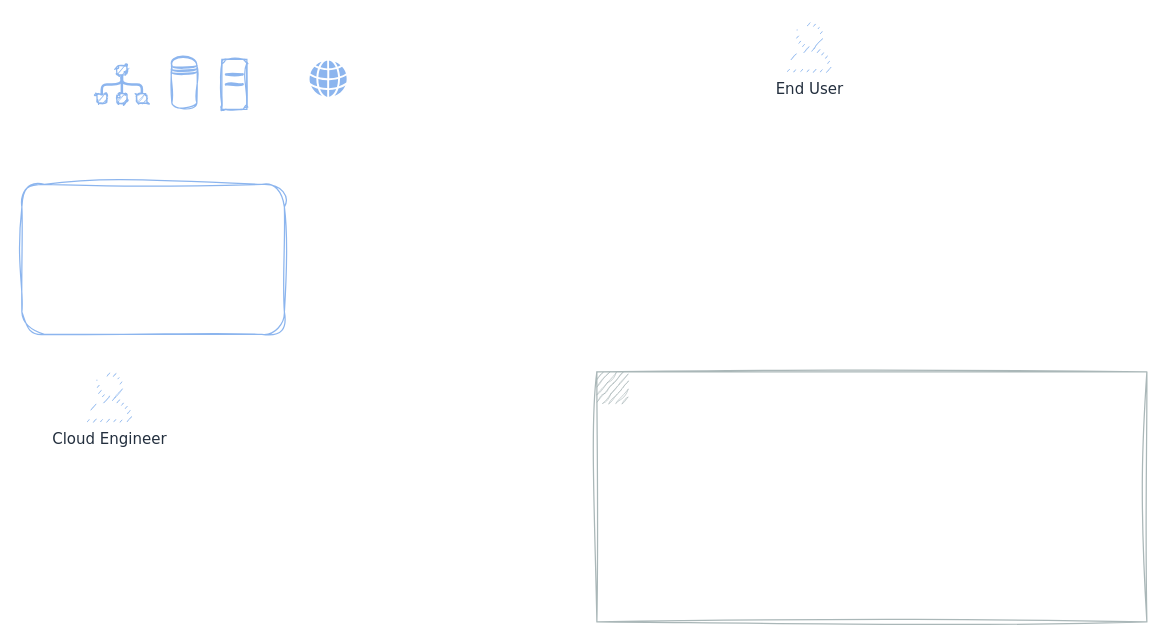
This 1169x644 diagram has some shape labels left out. The shapes that lost their labels are listed below. From the top down, each one's centre as x and y in pixels, then its label:
At [327,78]: "DNS".
At [871,496]: "Cloud Provider".
